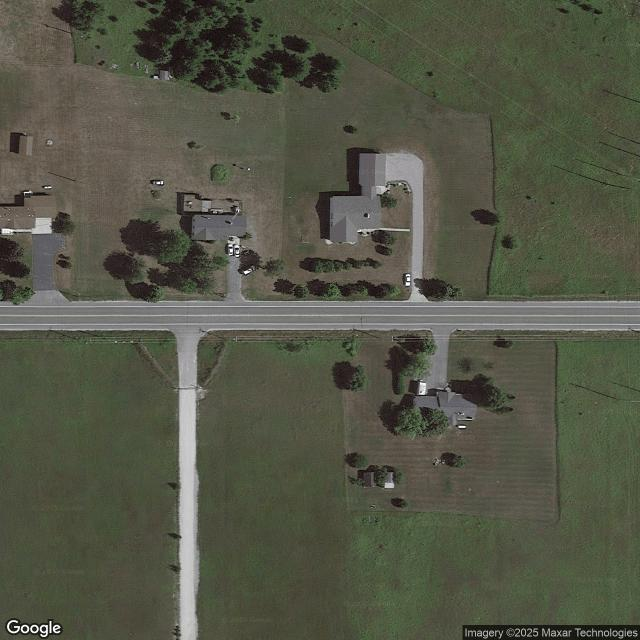Propane: (458, 425, 466, 429), (44, 186, 52, 189)
